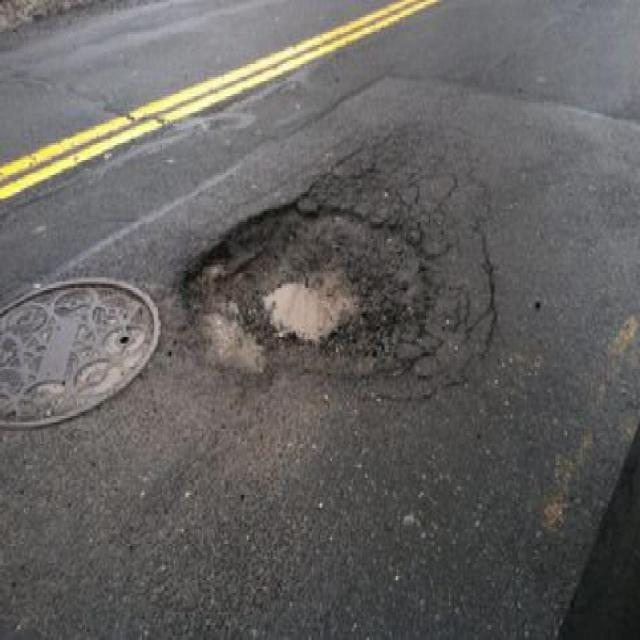Pothole: (183, 195, 440, 379)
